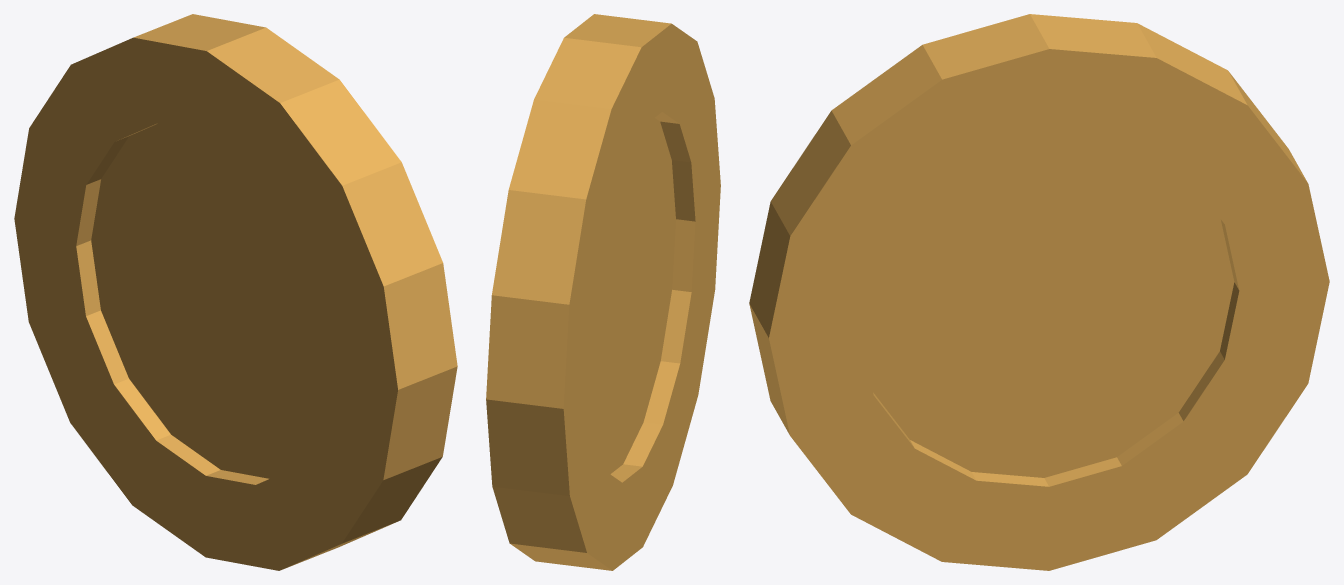
Rendered from moneda.fbx.
3 views of the same model, side by side, from view 1: azimuth 30°, elevation 25°; view 2: azimuth 150°, elevation 25°; view 3: azimuth 270°, elevation 25° (orthographic). The views are drawn at different scales.
Visible parts, largest first — view 1: bitcoin_Material_0; view 2: bitcoin_Material_0; view 3: bitcoin_Material_0.
Boxes of the visible parts, <box> form: bitcoin_Material_0: <box>14,14,457,570</box>; bitcoin_Material_0: <box>486,14,720,570</box>; bitcoin_Material_0: <box>749,14,1329,570</box>.
Bounding box in the file's own units: 18.51 × 49.37 × 49.68.
